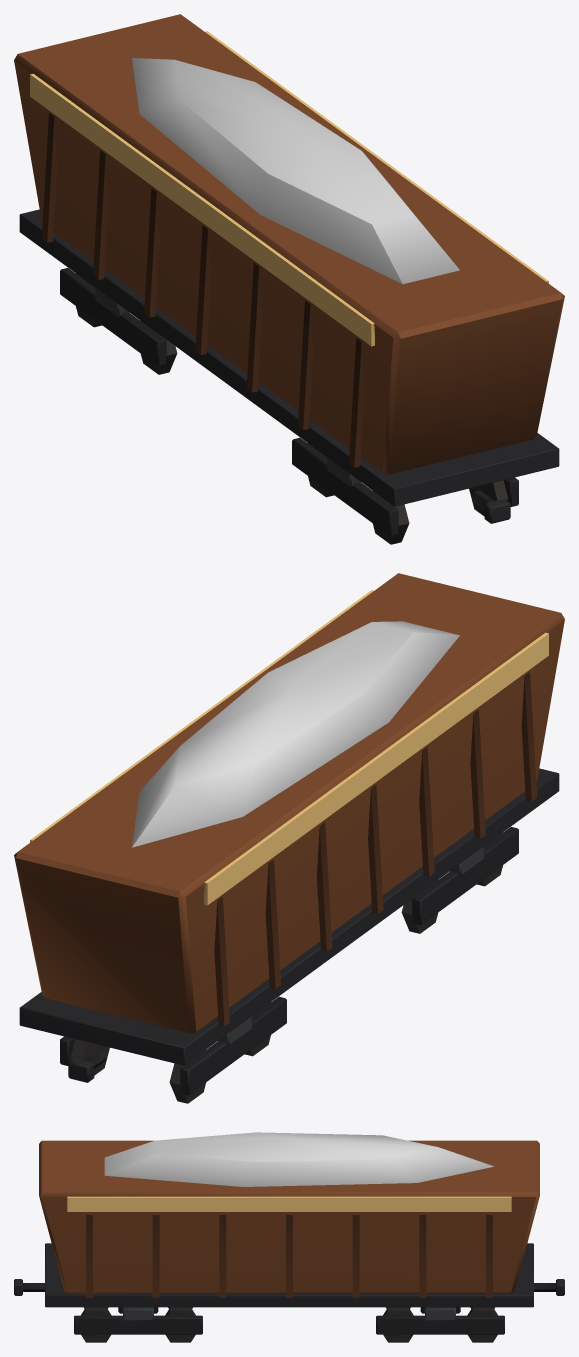
Rendered from train_wagon.glb.
3 views of the same model, one above another, from view 1: azimuth 30°, elevation 25°; view 2: azimuth 150°, elevation 25°; view 3: azimuth 270°, elevation 25° (orthographic). The views are drawn at different scales.
Parts seen in each view (by area): view 1: Wagon, Cargo; view 2: Wagon, Cargo; view 3: Wagon, Cargo.
Part boxes in pixels (x1,y1,x2,y2): Wagon: (14, 14, 564, 544); Cargo: (132, 58, 459, 284); Wagon: (14, 573, 564, 1103); Cargo: (132, 621, 459, 847); Wagon: (14, 1140, 564, 1342); Cargo: (104, 1132, 493, 1186).
Bounding box in the file's own units: 0.6803 × 1.02 × 2.73.
